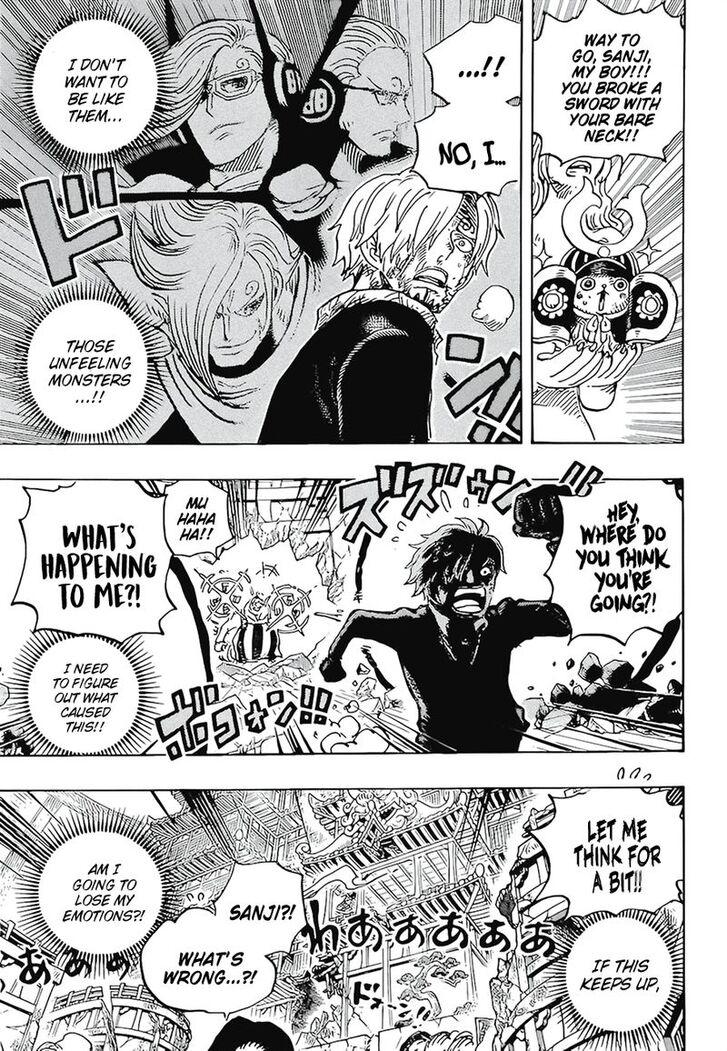Bubble: (531, 0, 686, 169), (10, 478, 171, 633), (542, 477, 684, 647), (519, 785, 686, 913), (30, 17, 160, 156), (25, 298, 149, 436), (37, 829, 166, 947), (25, 636, 142, 755), (564, 916, 677, 1034), (408, 104, 524, 199), (410, 12, 523, 100), (139, 949, 278, 1015), (209, 857, 310, 923), (175, 478, 235, 558)
